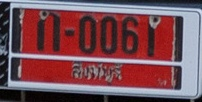txt01: (35, 10, 61, 52)
